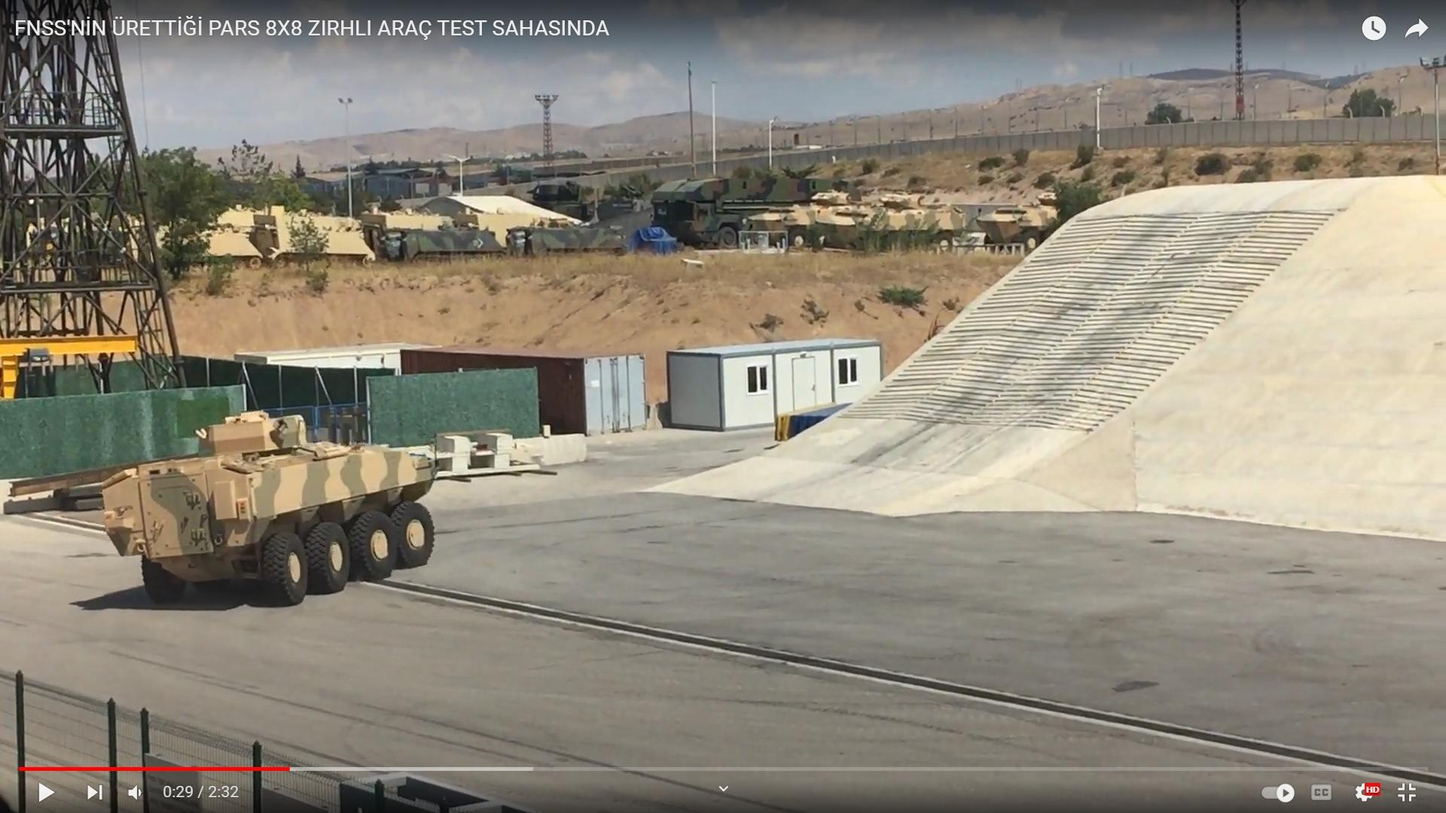armored_car: (101, 411, 487, 609)
